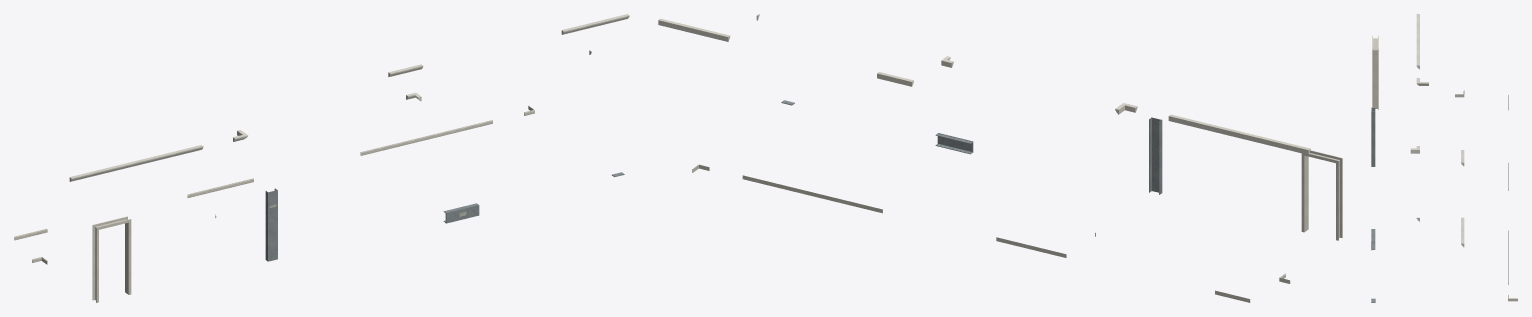
The model's file is PZ_InteriorTrim_CompleteKit.glb.
The picture shows the model from 3 angles, left to right: view 1: azimuth 30°, elevation 25°; view 2: azimuth 150°, elevation 25°; view 3: azimuth 270°, elevation 25°; orthographic projection. The views are drawn at different scales.
Visible parts, largest first — view 1: V09_Crown_4m__Crown_Moulding_Profile, V14_PipeChase_Vertical_2m__PipeChase_Removable_FacePanel, V03_Baseboard_4m__Skirting_Profiling_SingleShell; view 2: V09_Crown_4m__Crown_Moulding_Profile, V03_Baseboard_4m__Skirting_Profiling_SingleShell, V08_Crown_2m__Crown_Moulding_Profile, V14_PipeChase_Vertical_2m__PipeChase_Removable_FacePanel; view 3: V13_DoorCasing_900x2100__Jamb_InnerRight, V14_PipeChase_Vertical_2m__PipeChase_Right_Extrusion, V09_Crown_4m__Crown_Moulding_Profile, V08_Crown_2m__Crown_Moulding_Profile, V14_PipeChase_Vertical_2m__PipeChase_Right_EdgeBead.
Part boxes in pixels (left/top/right/bottom): V09_Crown_4m__Crown_Moulding_Profile: left=69, top=145, right=203, bottom=181; V14_PipeChase_Vertical_2m__PipeChase_Removable_FacePanel: left=268, top=190, right=277, bottom=261; V03_Baseboard_4m__Skirting_Profiling_SingleShell: left=360, top=120, right=492, bottom=155; V09_Crown_4m__Crown_Moulding_Profile: left=1168, top=114, right=1310, bottom=154; V03_Baseboard_4m__Skirting_Profiling_SingleShell: left=742, top=175, right=882, bottom=213; V08_Crown_2m__Crown_Moulding_Profile: left=658, top=18, right=730, bottom=41; V14_PipeChase_Vertical_2m__PipeChase_Removable_FacePanel: left=1152, top=117, right=1161, bottom=192; V13_DoorCasing_900x2100__Jamb_InnerRight: left=1373, top=50, right=1377, bottom=108; V14_PipeChase_Vertical_2m__PipeChase_Right_Extrusion: left=1372, top=111, right=1375, bottom=166; V09_Crown_4m__Crown_Moulding_Profile: left=1416, top=14, right=1419, bottom=69; V08_Crown_2m__Crown_Moulding_Profile: left=1461, top=217, right=1464, bottom=247; V14_PipeChase_Vertical_2m__PipeChase_Right_EdgeBead: left=1371, top=111, right=1372, bottom=166.
Bounding box in the file's own units: 18.05 × 3.15 × 4.79.
Materials: 5 (5 with a texture image).
